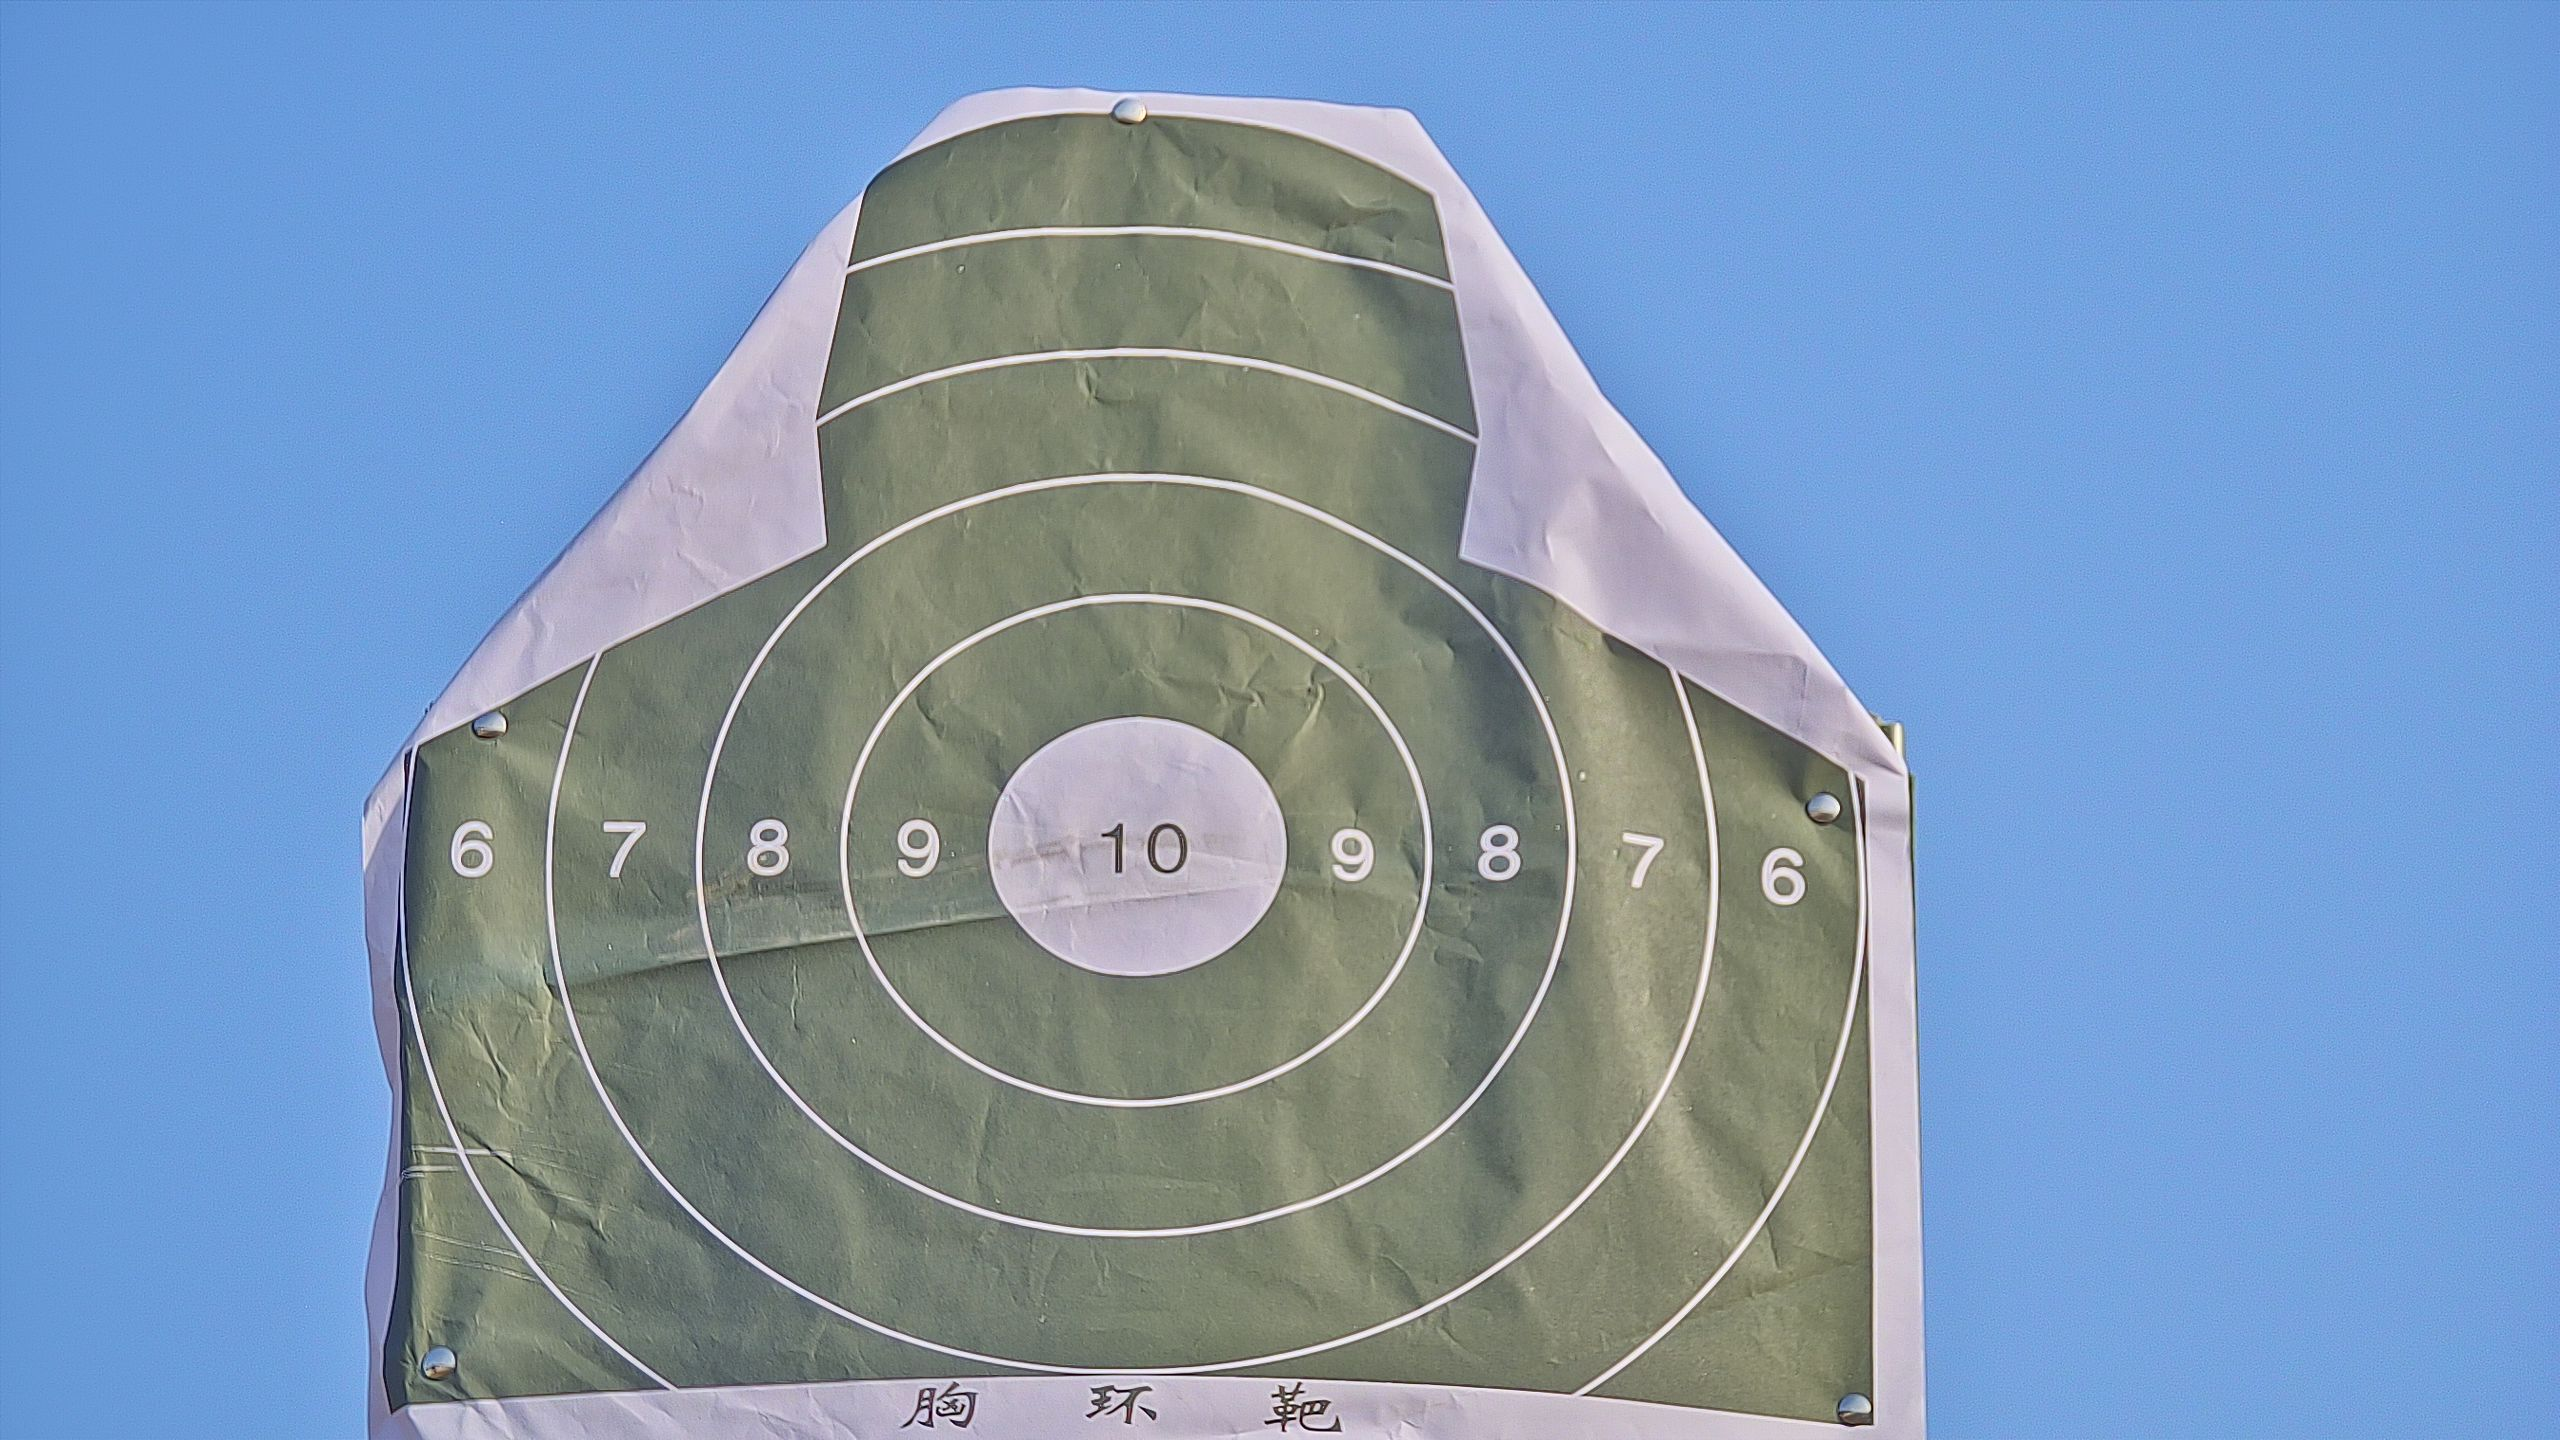target: (389, 111, 1871, 1424)
ten: (990, 719, 1285, 983)
